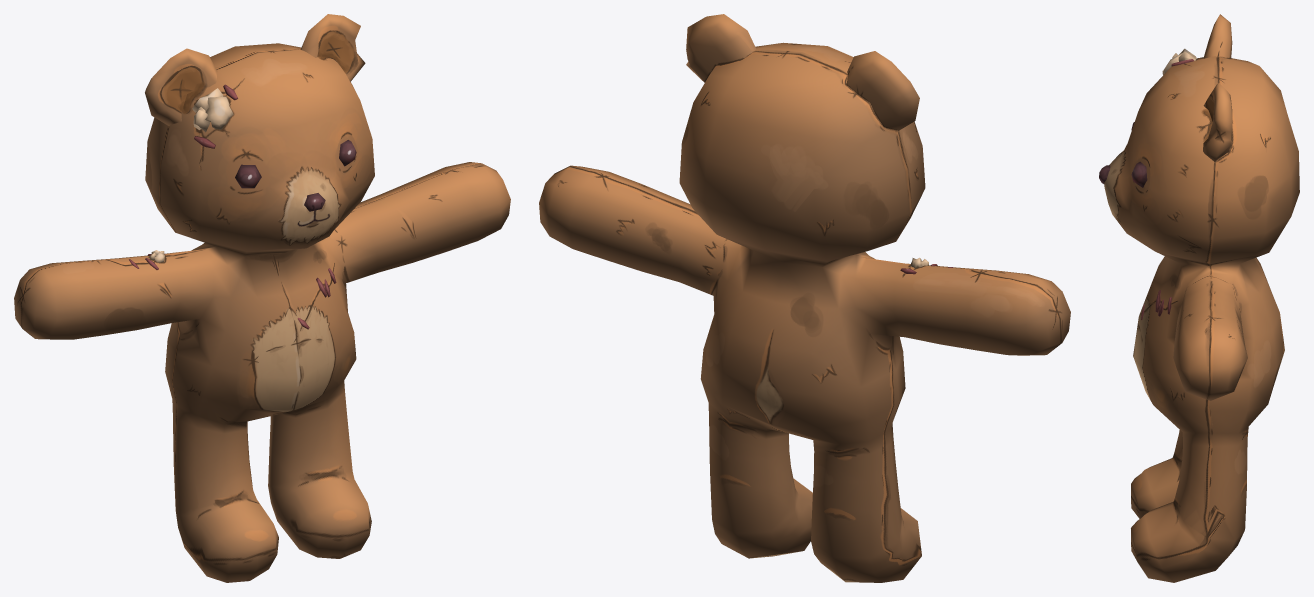
File: Ursin.fbx
3 views of the same model, side by side, from view 1: azimuth 30°, elevation 25°; view 2: azimuth 150°, elevation 25°; view 3: azimuth 270°, elevation 25° (orthographic). The views are drawn at different scales.
Visible parts, largest first — view 1: Cube.001; view 2: Cube.001; view 3: Cube.001.
Part boxes in pixels (box(x1,y1,x2,y2)): Cube.001: box(14, 14, 510, 582); Cube.001: box(539, 14, 1070, 582); Cube.001: box(1099, 14, 1299, 582).
Bounding box in the file's own units: 72.6 × 74.49 × 26.9.
